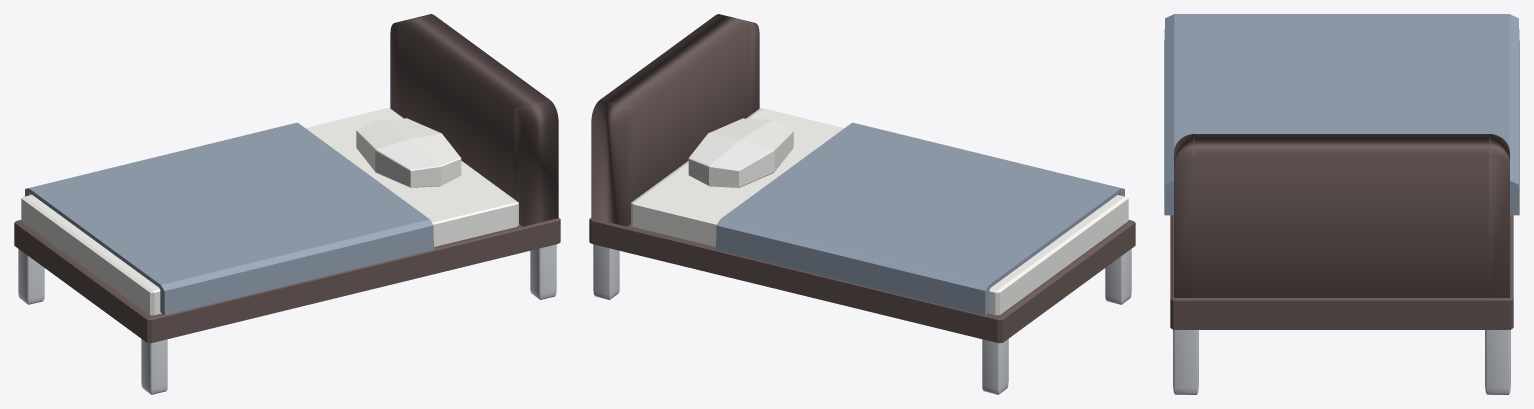
File: base_bed.gltf
3 renders of one model, left to right at view 1: azimuth 30°, elevation 25°; view 2: azimuth 150°, elevation 25°; view 3: azimuth 270°, elevation 25°, orthographic. The views are drawn at different scales.
Visible parts, largest first — view 1: Plane.007, Plane.004, Plane.002, Plane.003, Plane.005, Cube.001; view 2: Plane.007, Plane.004, Plane.002, Plane.003, Plane.005, Cube.001; view 3: Plane.004, Plane.007, Plane.002, Cube.001.
Boxes of the visible parts, x1,y1,x2,y2 form: Plane.007: (25,122,433,315); Plane.004: (390,14,558,226); Plane.002: (14,218,560,343); Plane.003: (21,108,518,315); Plane.005: (356,118,461,187); Cube.001: (18,244,556,394); Plane.007: (716,122,1124,315); Plane.004: (591,14,759,226); Plane.002: (589,218,1135,343); Plane.003: (631,108,1128,315); Plane.005: (688,118,793,187); Cube.001: (593,244,1131,394); Plane.004: (1174,134,1509,297); Plane.007: (1164,14,1519,215); Plane.002: (1170,215,1513,329); Cube.001: (1173,330,1510,394).
Bounding box in the file's own units: 6.95 × 3.05 × 4.08.
